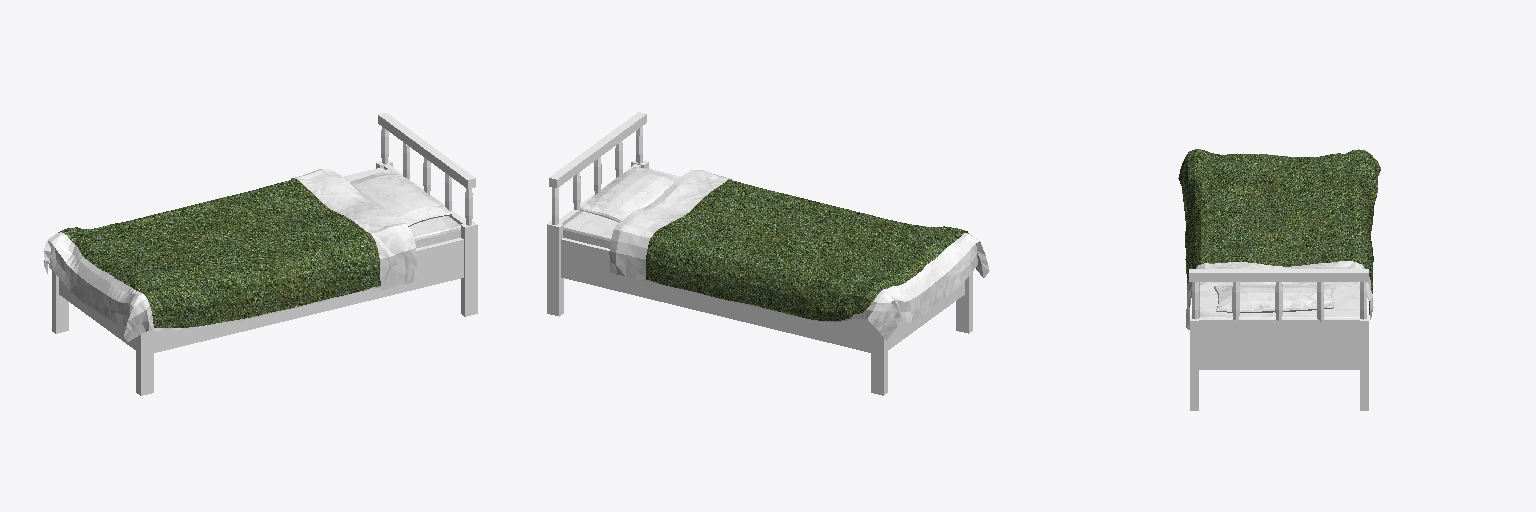
3 views of the same model, side by side, from view 1: azimuth 30°, elevation 25°; view 2: azimuth 150°, elevation 25°; view 3: azimuth 270°, elevation 25° (orthographic).
Visible parts, largest first — view 1: Object01, Plane02, Box08, Box16, Box09, Box06, ChamferBox01, Box03, Box02, Box01; view 2: Object01, Plane02, Box07, Box16, Box09, Box05, ChamferBox01, Box01, Box02, Box03; view 3: Object01, Box04, Box16, ChamferBox01, Box09, Plane02, Box05, Box06.
Boxes of the visible parts, box(x1,y1,x2,y2) form: Object01: box(58, 179, 380, 327); Plane02: box(43, 169, 416, 341); Box08: box(154, 238, 463, 352); Box16: box(350, 168, 452, 226); Box09: box(378, 113, 475, 188); Box06: box(461, 221, 477, 316); ChamferBox01: box(344, 168, 460, 247); Box03: box(136, 330, 153, 395); Box02: box(59, 278, 135, 349); Box01: box(52, 270, 68, 333); Object01: box(646, 180, 968, 320); Plane02: box(609, 170, 989, 340); Box07: box(561, 238, 870, 352); Box16: box(579, 166, 678, 222); Box09: box(549, 112, 646, 187); Box05: box(547, 221, 563, 316); ChamferBox01: box(563, 168, 679, 248); Box01: box(871, 324, 887, 395); Box02: box(888, 281, 964, 349); Box03: box(956, 272, 972, 333); Object01: box(1178, 149, 1380, 314); Box04: box(1199, 318, 1359, 369); Box16: box(1214, 284, 1335, 312); ChamferBox01: box(1199, 282, 1359, 317); Box09: box(1189, 269, 1368, 281); Plane02: box(1186, 149, 1379, 329); Box05: box(1360, 315, 1368, 410); Box06: box(1190, 315, 1198, 410).
Size of the model in its own units: 2.17 by 0.8014 by 1.08.
Materials: 4 (2 with a texture image).